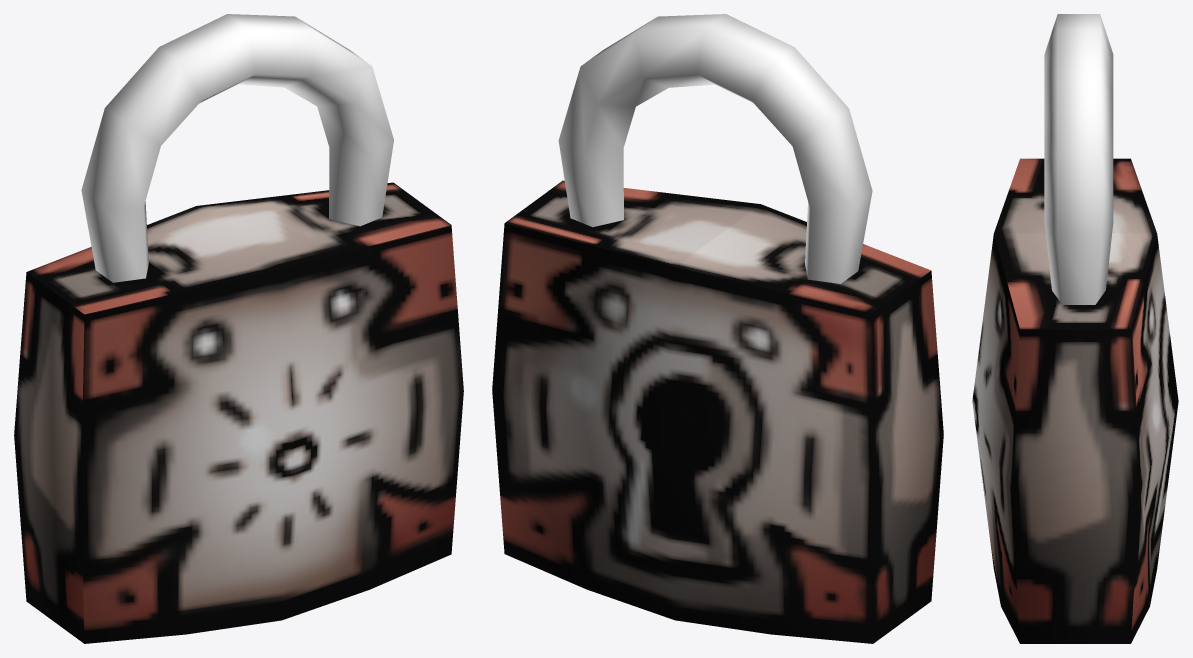
The model's file is zamek.FBX.
The picture shows the model from 3 angles, left to right: view 1: azimuth 30°, elevation 25°; view 2: azimuth 150°, elevation 25°; view 3: azimuth 270°, elevation 25°; orthographic projection. The views are drawn at different scales.
Parts seen in each view (by area): view 1: padlock; view 2: padlock; view 3: padlock.
Boxes of the visible parts, left/top/right/bottom form: padlock: left=14, top=14, right=463, bottom=643; padlock: left=492, top=14, right=943, bottom=643; padlock: left=972, top=14, right=1178, bottom=643.
Size of the model in its own units: 121 by 171 by 59.24.
